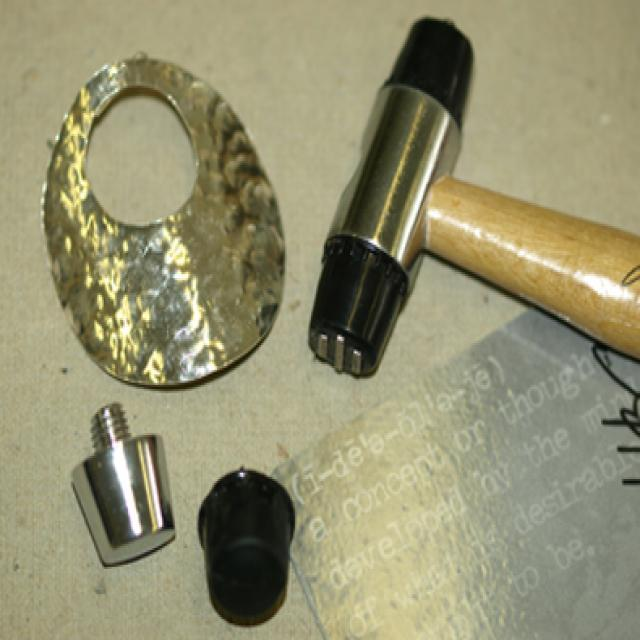hammer: (302, 4, 640, 424)
